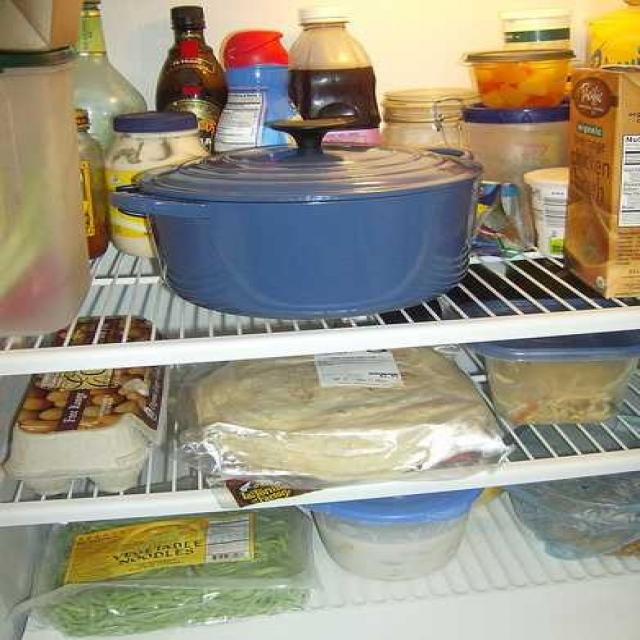refrigerator: (2, 0, 640, 635)
